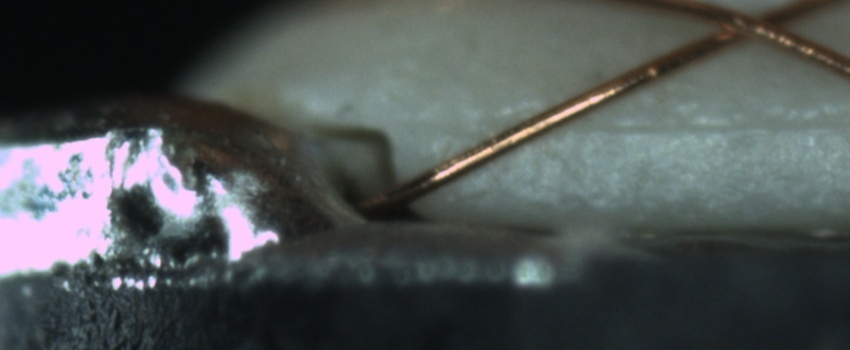CL: (700, 1, 815, 49)
DL: (451, 97, 849, 161)
